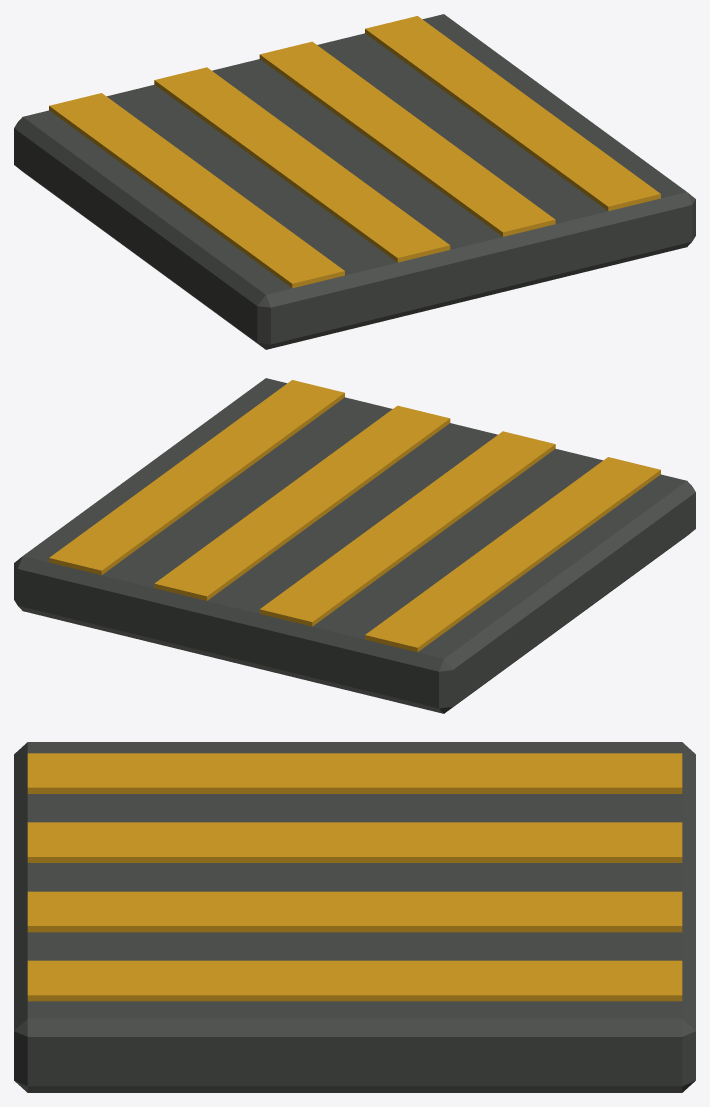
The model's file is kit_floor_hazard.glb.
3 renders of one model, top to bottom at view 1: azimuth 30°, elevation 25°; view 2: azimuth 150°, elevation 25°; view 3: azimuth 270°, elevation 25°, orthographic. The views are drawn at different scales.
Parts seen in each view (by area): view 1: slab, stripe1, stripe2, stripe0, stripe3; view 2: slab, stripe1, stripe2, stripe0, stripe3; view 3: slab, stripe2, stripe3, stripe0, stripe1.
Part boxes in pixels (x1=…): slab: x1=14, y1=14, x2=695, y2=349; stripe1: x1=154, y1=67, x2=450, y2=262; stripe2: x1=259, y1=41, x2=555, y2=236; stripe0: x1=49, y1=93, x2=344, y2=288; stripe3: x1=365, y1=16, x2=660, y2=211; slab: x1=14, y1=378, x2=695, y2=713; stripe1: x1=259, y1=431, x2=555, y2=626; stripe2: x1=154, y1=405, x2=450, y2=600; stripe0: x1=365, y1=457, x2=660, y2=652; stripe3: x1=49, y1=380, x2=344, y2=575; slab: x1=14, y1=742, x2=695, y2=1092; stripe2: x1=27, y1=891, x2=682, y2=932; stripe3: x1=27, y1=960, x2=682, y2=1001; stripe0: x1=27, y1=753, x2=682, y2=793; stripe1: x1=27, y1=822, x2=682, y2=862.
Size of the model in its own units: 1 by 0.13 by 1.
